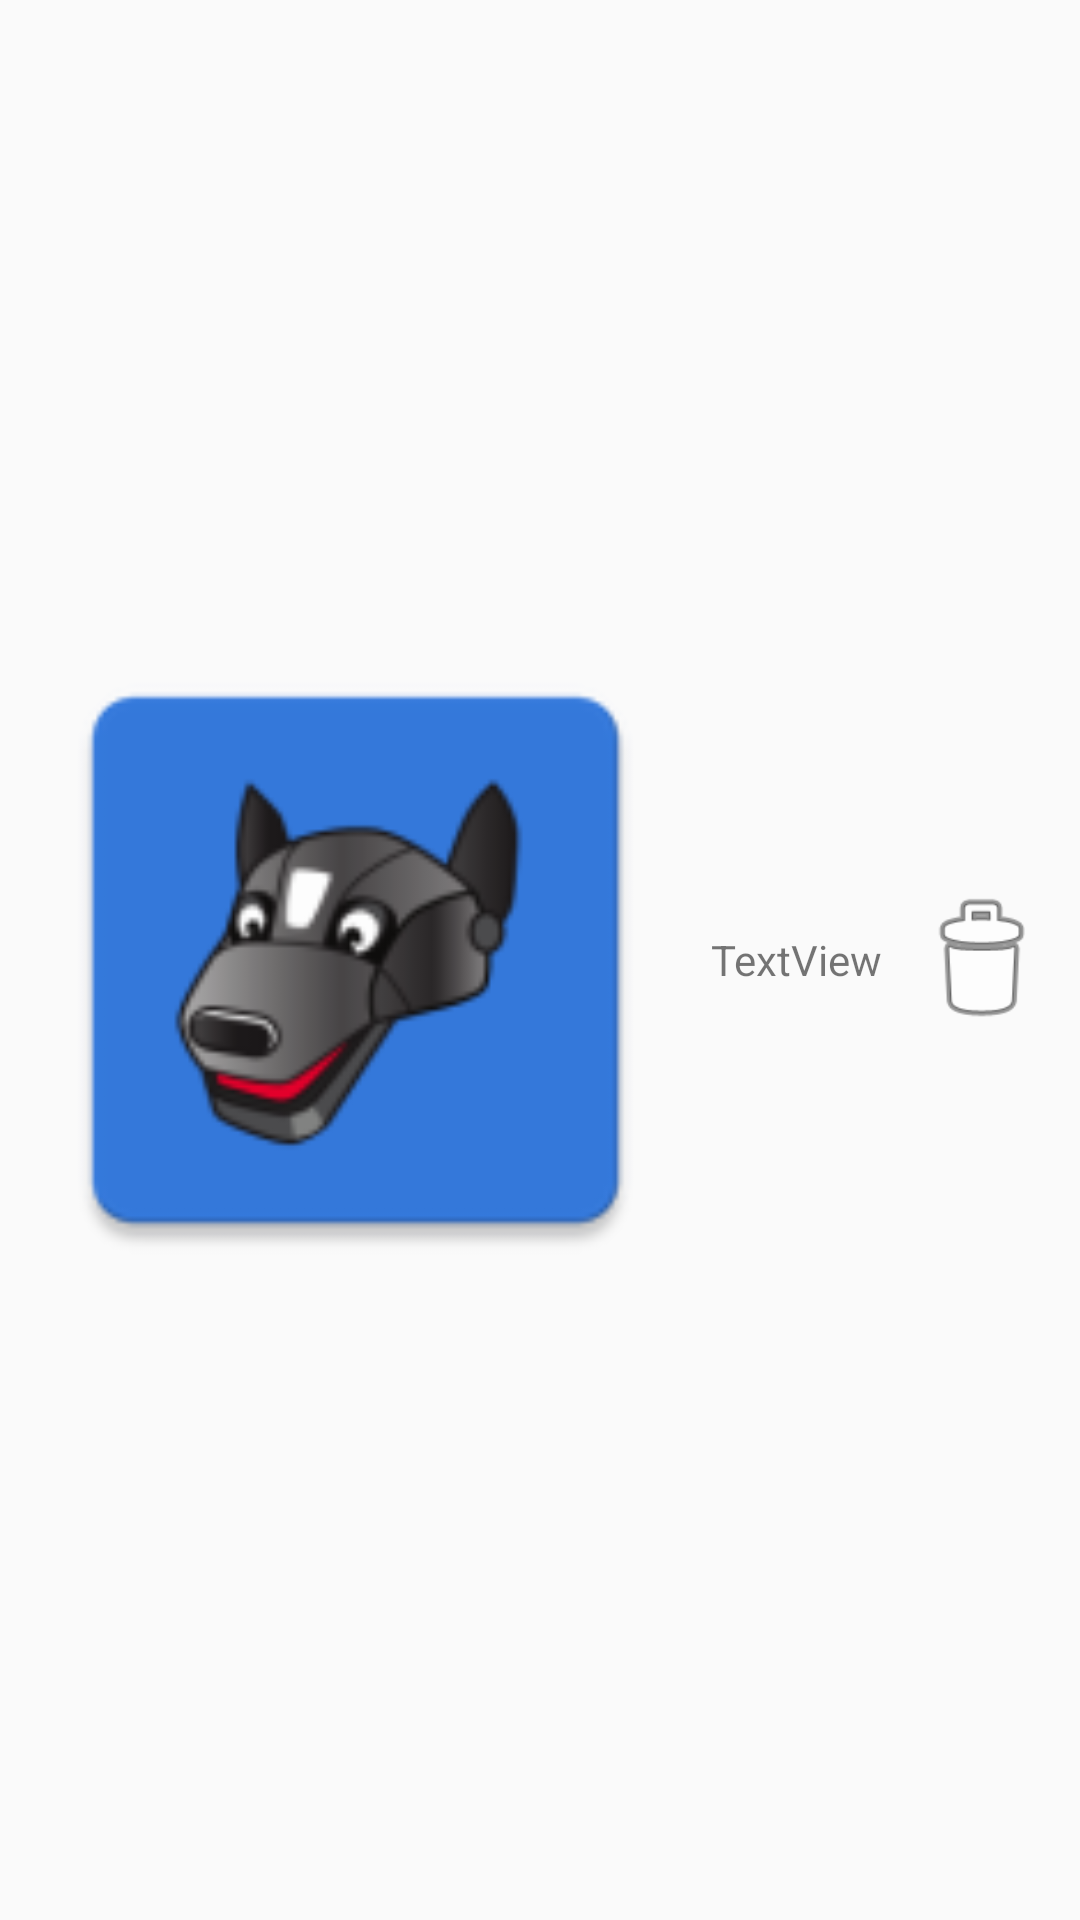

Icons on this 1080*1920 Android screen, each with the point to tap as point (x, y):
delete: point (981, 957)
